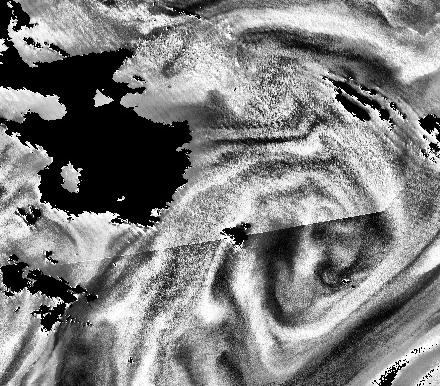AE: (219, 121, 412, 367)
